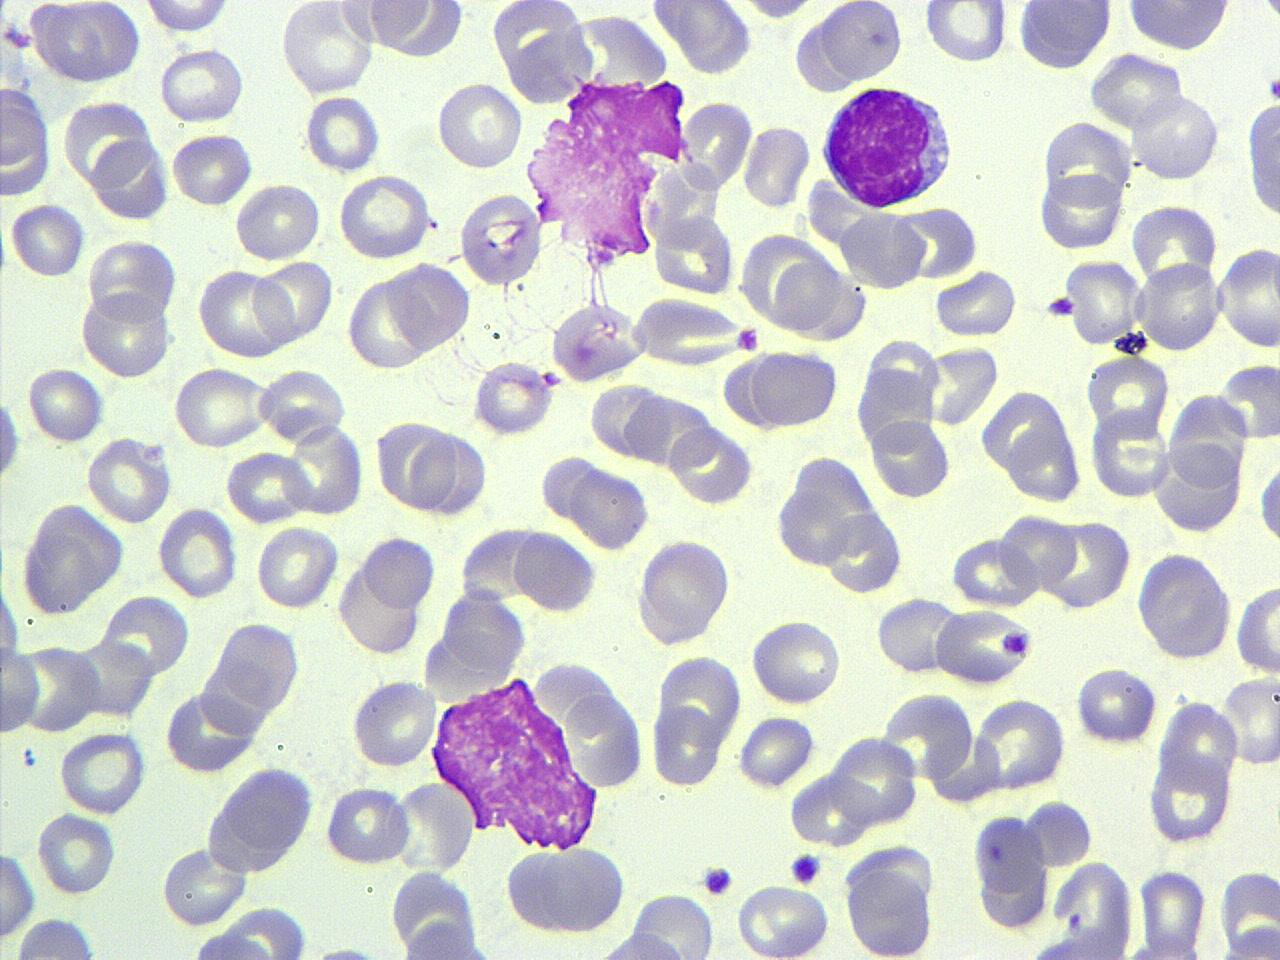Platelets: (1255, 456, 1280, 552), (0, 387, 23, 486), (699, 862, 735, 898), (788, 850, 824, 886), (313, 942, 378, 960), (1000, 628, 1034, 656), (2, 24, 33, 51), (1044, 296, 1076, 319), (22, 742, 37, 770), (1266, 75, 1280, 103), (1066, 910, 1082, 933)
RBC: (201, 764, 319, 876), (17, 502, 128, 616), (1134, 549, 1234, 661), (635, 536, 734, 646), (335, 547, 425, 658), (971, 810, 1049, 933), (844, 858, 936, 960), (632, 294, 758, 368), (974, 695, 1068, 793), (280, 1, 375, 96), (1152, 440, 1248, 534), (749, 615, 846, 707), (195, 266, 291, 358), (34, 1, 140, 84), (1129, 89, 1221, 183), (336, 171, 434, 259), (172, 363, 273, 448), (828, 733, 918, 828), (550, 299, 650, 384), (1041, 118, 1133, 210), (1052, 857, 1136, 957), (57, 726, 148, 818), (214, 618, 304, 711), (435, 79, 525, 172), (564, 686, 646, 788), (86, 236, 181, 324), (280, 420, 367, 516), (350, 676, 438, 770), (1128, 201, 1218, 292), (456, 191, 542, 286), (391, 778, 476, 874), (932, 607, 1035, 686), (347, 274, 430, 372), (1146, 752, 1232, 846), (1157, 695, 1239, 793), (386, 259, 472, 352), (79, 292, 172, 378), (1137, 258, 1221, 353), (86, 434, 173, 525), (1084, 349, 1170, 441), (1088, 406, 1170, 501), (158, 503, 238, 600), (255, 520, 341, 610), (980, 388, 1066, 477), (543, 843, 628, 932), (159, 843, 248, 928), (678, 96, 754, 195), (749, 346, 838, 430), (668, 420, 754, 506), (513, 528, 599, 614), (324, 782, 410, 868), (1012, 0, 1113, 73), (1088, 50, 1182, 128), (734, 882, 830, 958), (36, 808, 117, 898), (159, 43, 246, 126), (504, 844, 582, 936), (377, 418, 454, 511), (253, 257, 335, 344), (838, 208, 924, 290), (1063, 255, 1141, 345), (950, 533, 1042, 609), (570, 466, 653, 550), (825, 508, 904, 596), (92, 135, 171, 223), (234, 182, 322, 261), (259, 366, 348, 444), (622, 888, 718, 960), (652, 213, 736, 295), (1073, 664, 1157, 746), (1038, 172, 1124, 252), (874, 596, 961, 675), (821, 0, 903, 83), (1216, 243, 1280, 349), (1137, 865, 1209, 959), (869, 417, 951, 499), (24, 364, 108, 444), (1000, 509, 1078, 594), (471, 358, 557, 435), (649, 702, 723, 789), (6, 199, 86, 279), (304, 92, 382, 174), (170, 130, 252, 208), (223, 448, 308, 523), (933, 266, 1020, 339), (790, 771, 870, 850), (742, 120, 812, 210), (1007, 424, 1085, 503), (0, 84, 53, 200), (738, 711, 816, 788), (1218, 672, 1280, 768), (1124, 0, 1236, 53), (370, 0, 467, 59), (405, 432, 472, 516), (363, 534, 438, 609), (923, 0, 1007, 66), (338, 0, 433, 50), (396, 918, 506, 960), (1234, 580, 1280, 675), (11, 914, 104, 958), (0, 841, 38, 942), (0, 646, 41, 735), (141, 0, 233, 34), (1256, 443, 1280, 563), (184, 930, 279, 960), (0, 380, 24, 490), (0, 570, 22, 686), (730, 0, 826, 23)
WBC: (431, 663, 615, 854), (520, 67, 690, 264), (816, 81, 960, 213), (18, 501, 134, 616), (204, 762, 318, 876), (1135, 544, 1237, 662), (636, 536, 736, 646), (844, 860, 938, 958), (1154, 442, 1246, 535), (1012, 1, 1115, 72), (1244, 90, 1280, 223), (8, 914, 104, 958)
